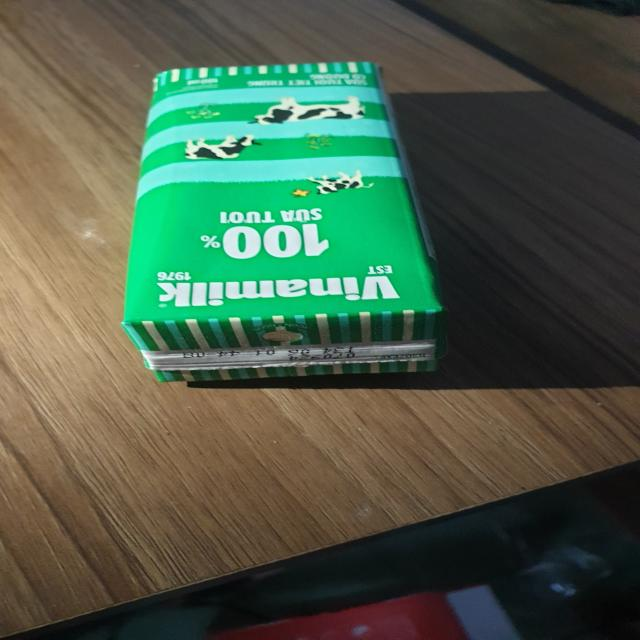Vina: (134, 58, 444, 390)
